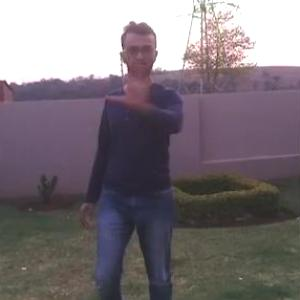follow_hand: (105, 57, 159, 111)
